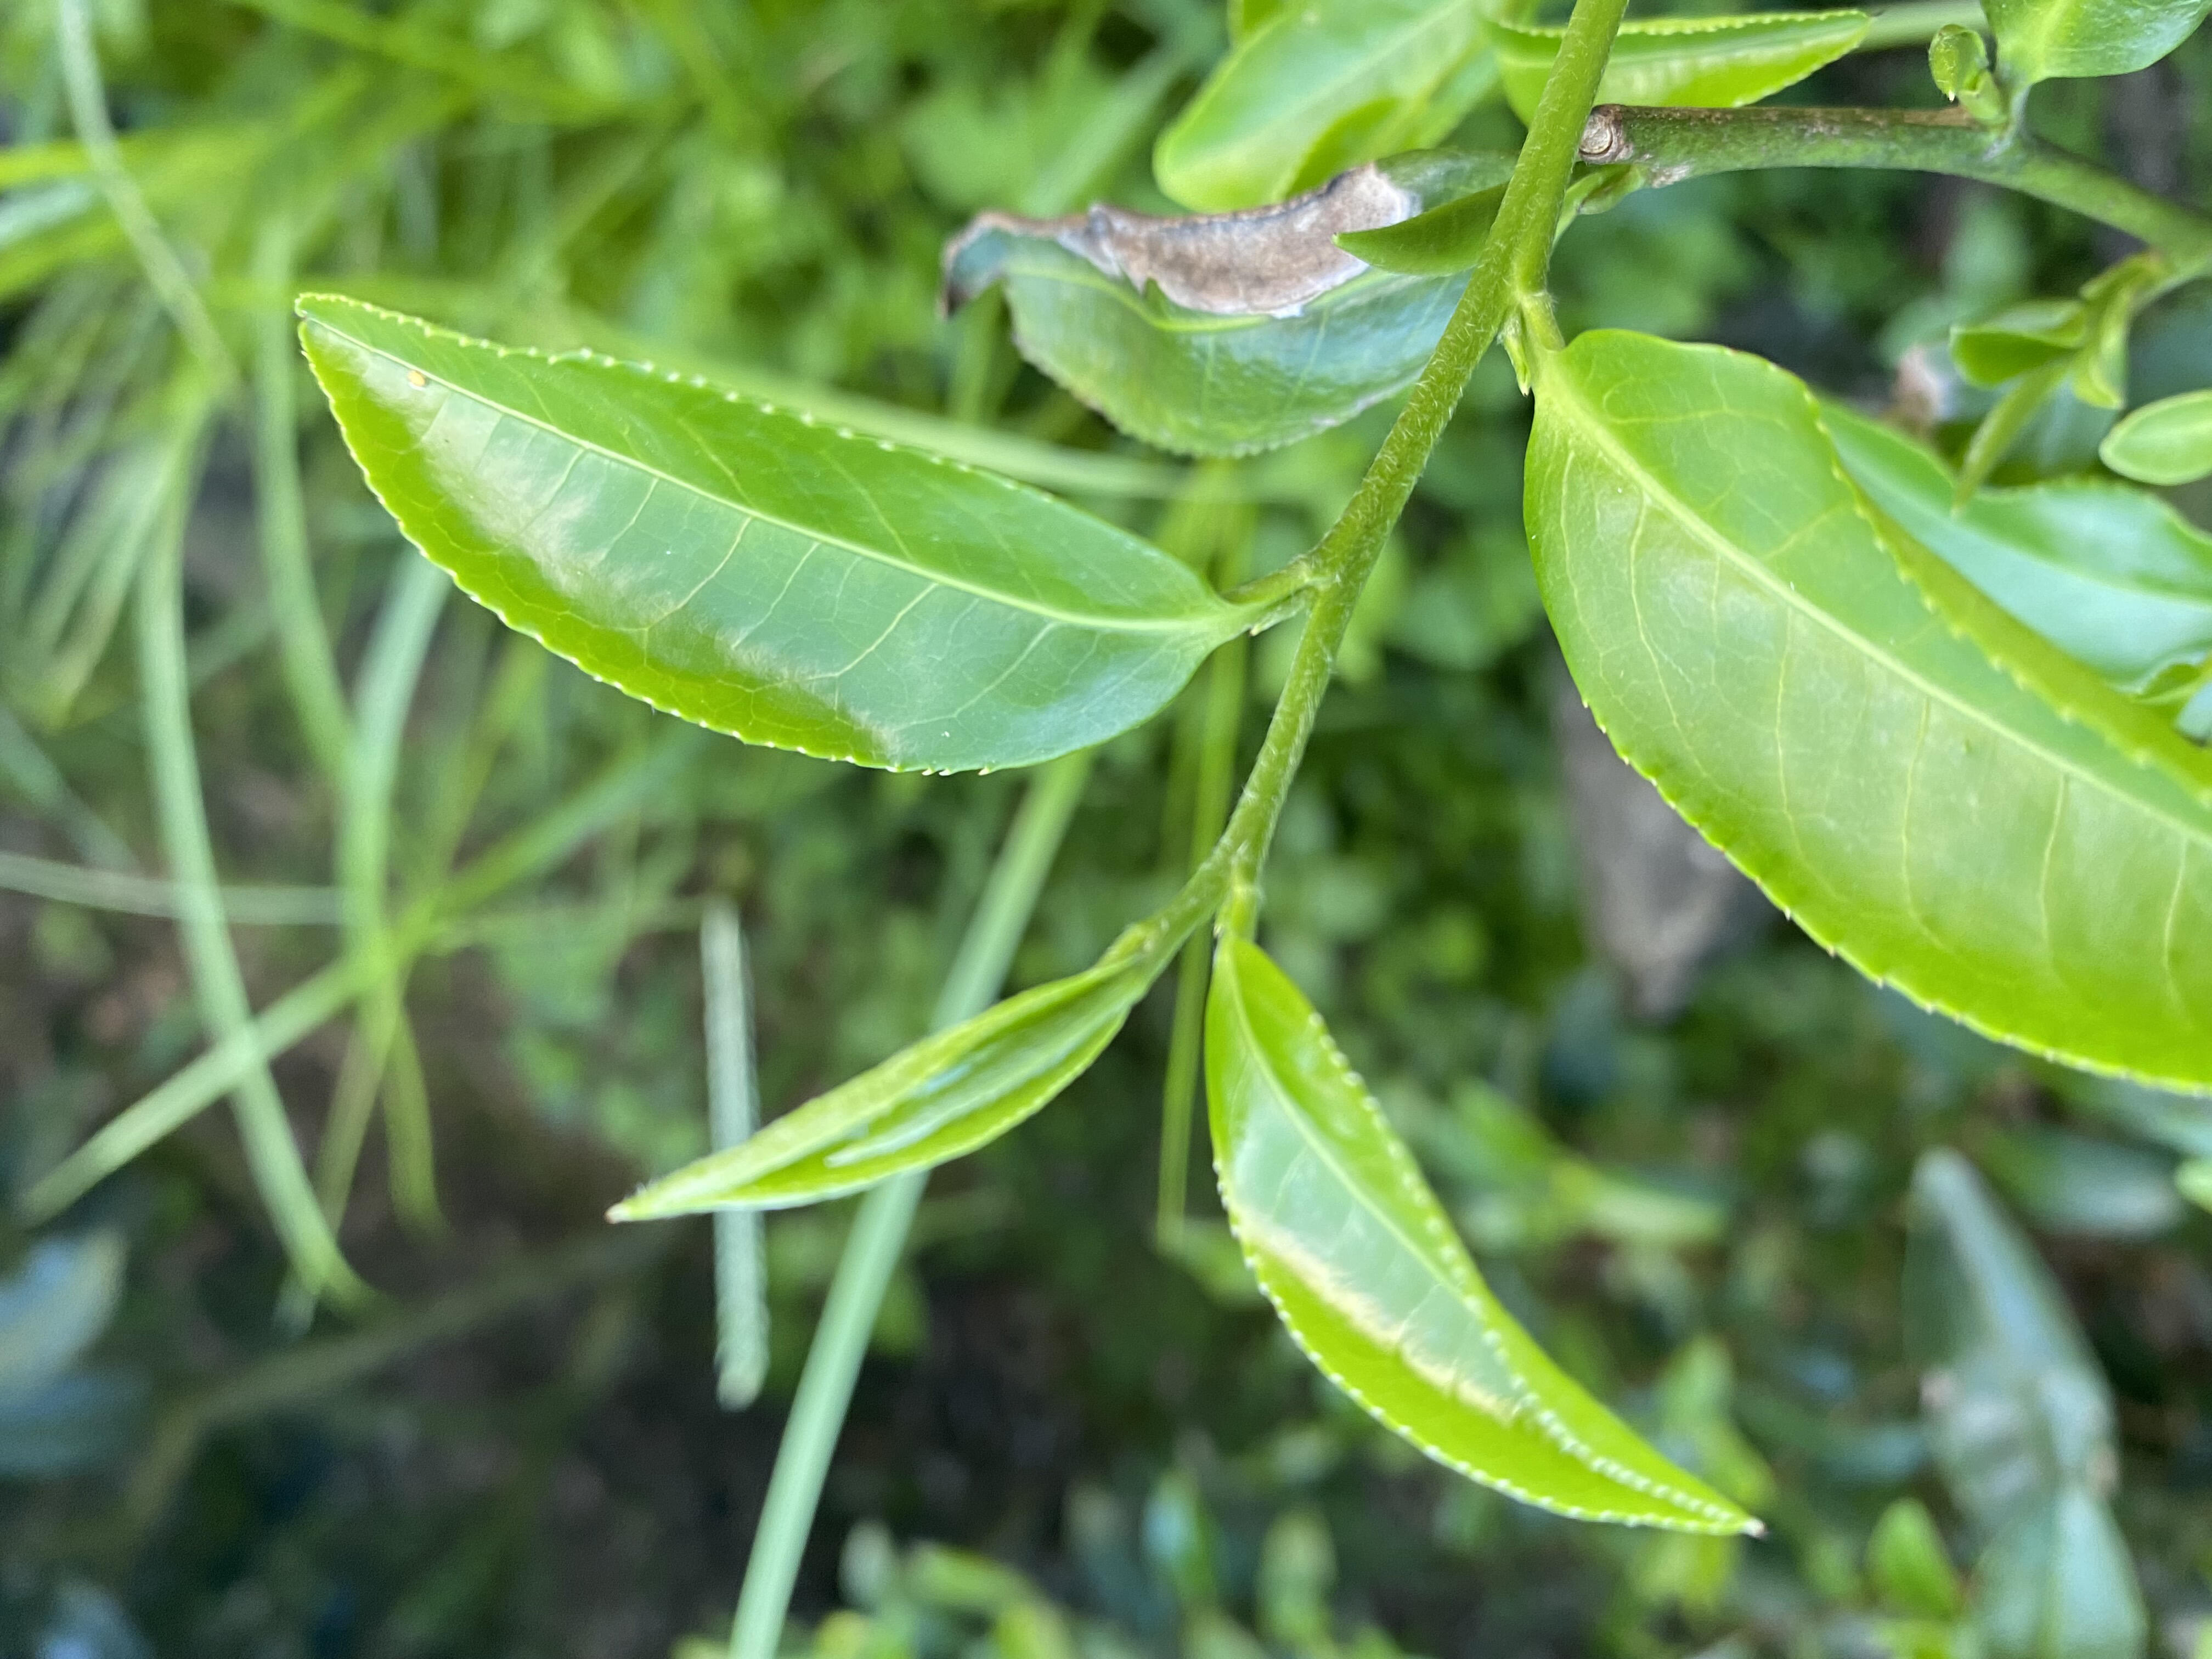healthy: (1519, 328, 2209, 1094), (289, 291, 1224, 775), (1202, 941, 1766, 1535)
tanju_high: (935, 145, 1522, 460)
